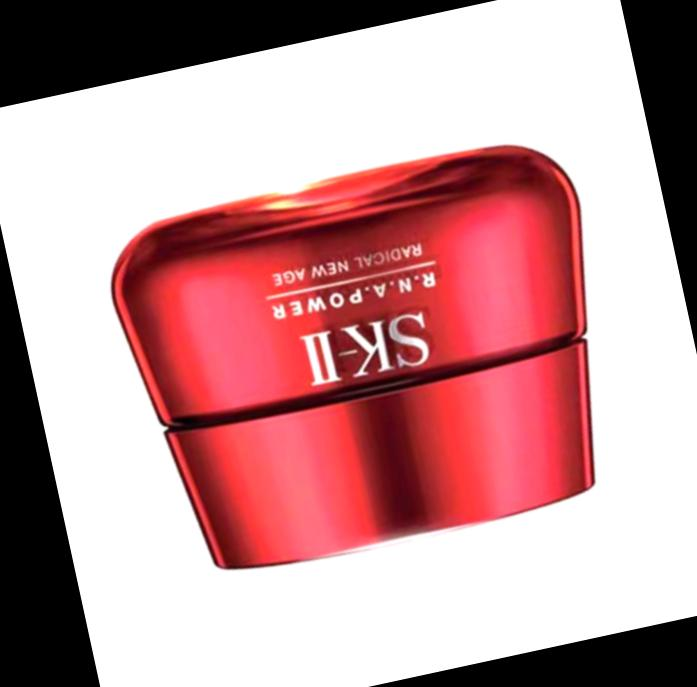cosmetic: (112, 142, 627, 585)
